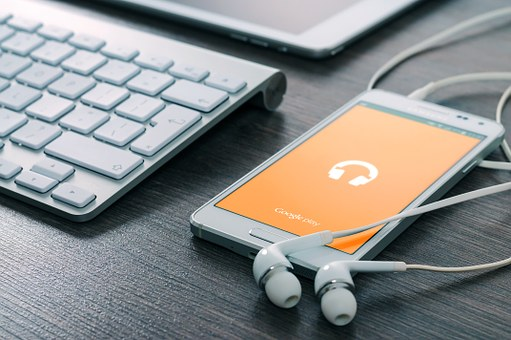mobile: (191, 55, 508, 276)
